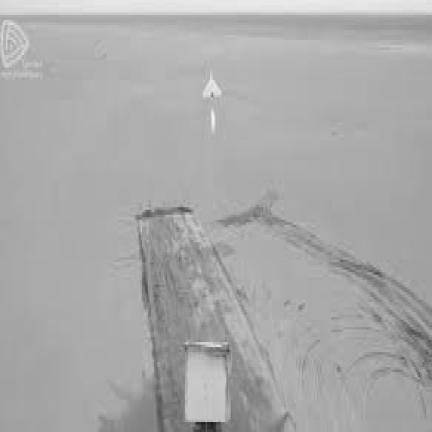Shahed: (203, 70, 221, 99)
